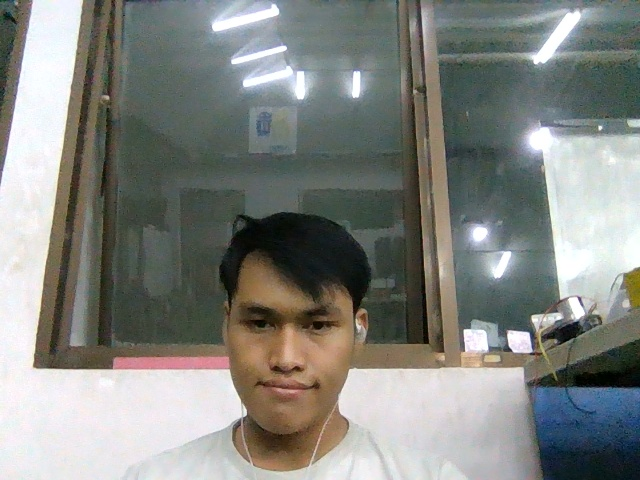mask_off: (228, 358, 349, 434)
